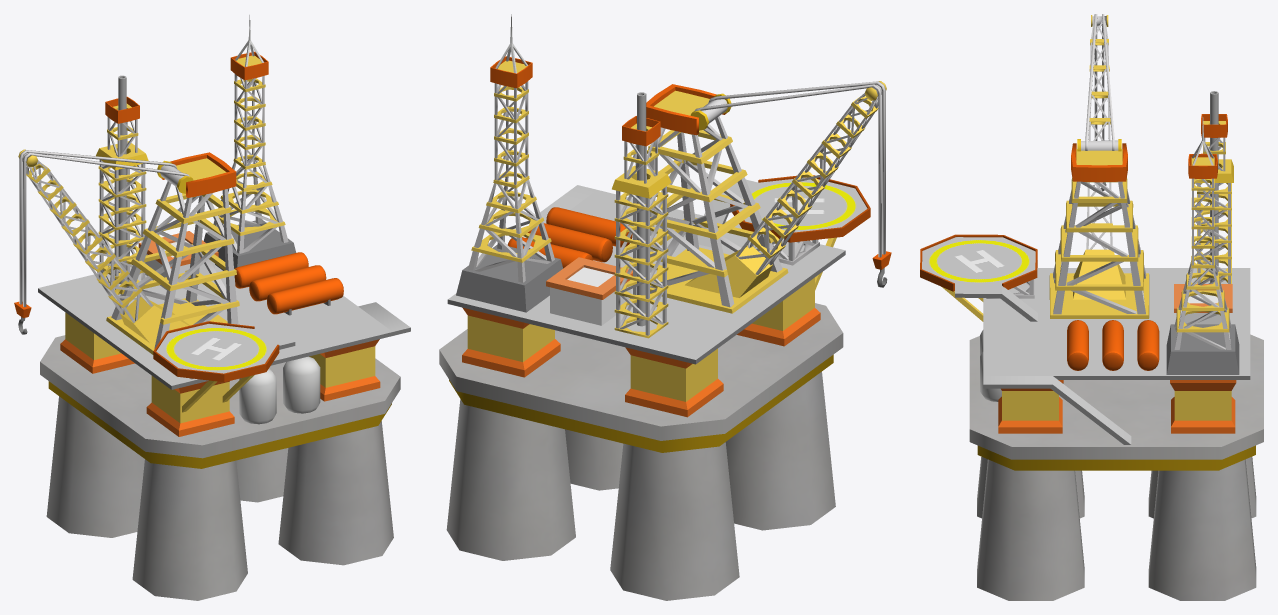
The model's file is oil_inc_001.fbx.
3 views of the same model, side by side, from view 1: azimuth 30°, elevation 25°; view 2: azimuth 150°, elevation 25°; view 3: azimuth 270°, elevation 25° (orthographic). The views are drawn at different scales.
Visible parts, largest first — view 1: oil_platform_01.001; view 2: oil_platform_01.001; view 3: oil_platform_01.001.
Part boxes in pixels (x1=…): oil_platform_01.001: x1=14, y1=14, x2=410, y2=600; oil_platform_01.001: x1=439, y1=14, x2=891, y2=600; oil_platform_01.001: x1=920, y1=14, x2=1263, y2=600.
Size of the model in its own units: 94.34 by 124 by 83.25.
